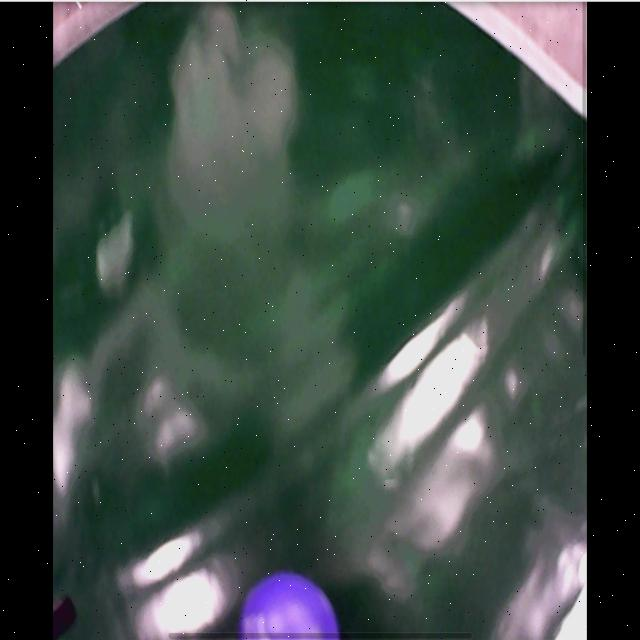ball: (238, 574, 339, 638)
